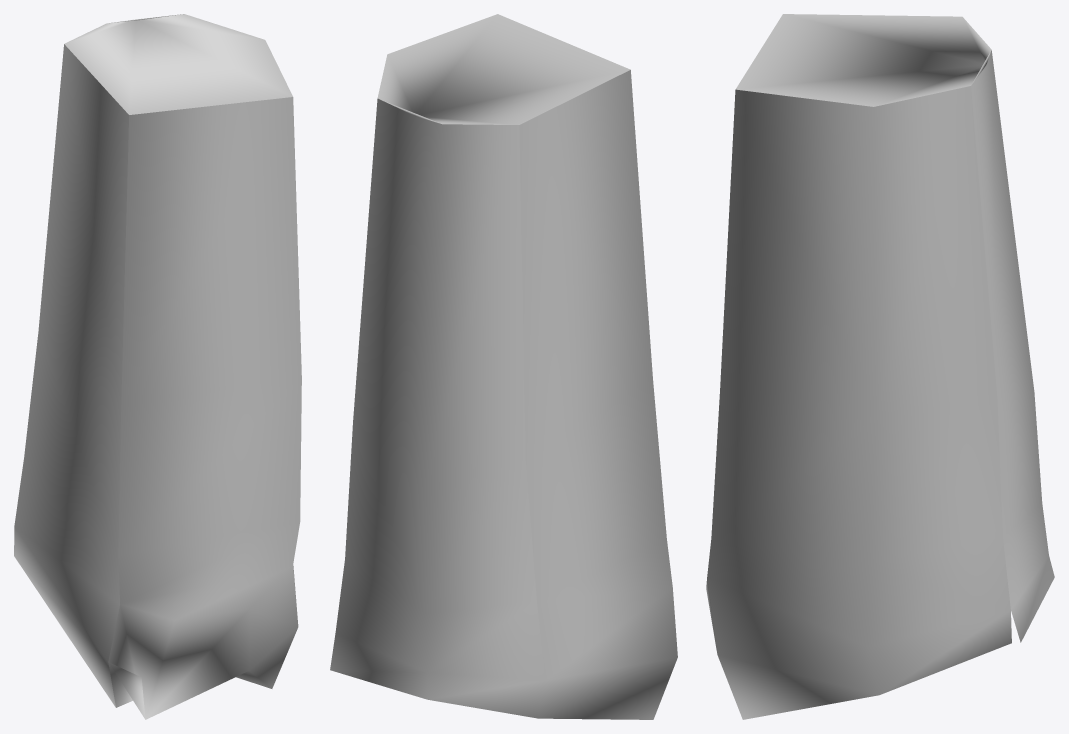
File: left_forearm.glb
The picture shows the model from 3 angles, left to right: view 1: azimuth 30°, elevation 25°; view 2: azimuth 150°, elevation 25°; view 3: azimuth 270°, elevation 25°; orthographic projection. The views are drawn at different scales.
Parts seen in each view (by area): view 1: sweater-white_LEFT_FOREARM; view 2: sweater-white_LEFT_FOREARM; view 3: sweater-white_LEFT_FOREARM.
Part boxes in pixels (x1,y1,x2,y2): sweater-white_LEFT_FOREARM: (14,14,301,719); sweater-white_LEFT_FOREARM: (330,14,677,719); sweater-white_LEFT_FOREARM: (706,14,1054,719).
Size of the model in its own units: 0.1163 by 0.2888 by 0.1398.
1 material, 1 textured.
